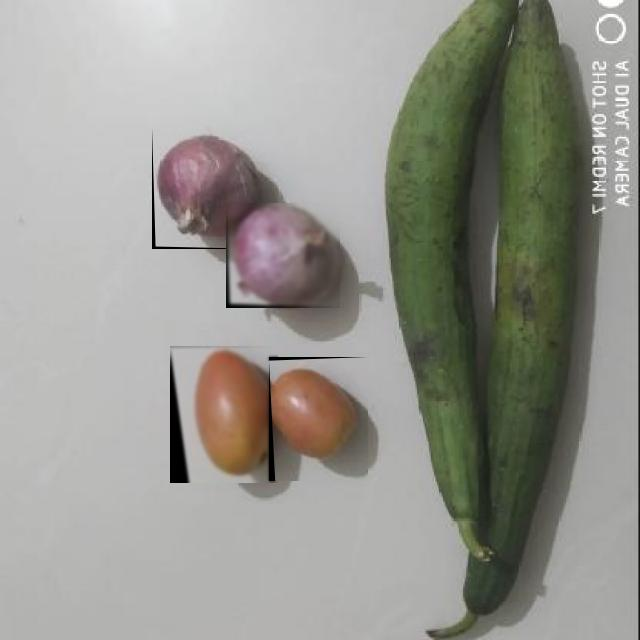onion: (152, 129, 263, 249), (226, 203, 340, 308)
tomato: (170, 346, 278, 483), (269, 357, 368, 481)
